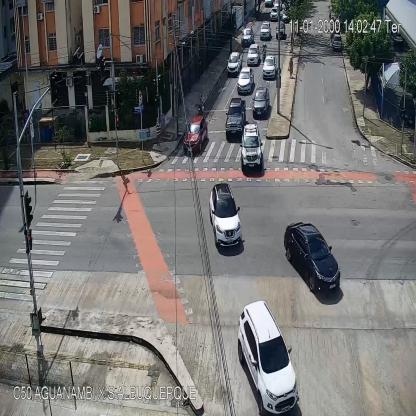car: (238, 300, 298, 412), (283, 221, 340, 295), (210, 182, 244, 248), (241, 124, 263, 170), (183, 117, 208, 151), (226, 98, 245, 135), (252, 89, 270, 120), (237, 67, 253, 94), (262, 56, 277, 80), (227, 52, 242, 73), (247, 45, 260, 66), (241, 27, 253, 45), (260, 23, 270, 42), (275, 22, 285, 38), (332, 35, 342, 50), (270, 8, 278, 19)
motorbike: (196, 94, 204, 117), (262, 42, 267, 62)
person: (156, 116, 161, 147), (288, 57, 295, 79), (161, 109, 166, 136), (234, 20, 237, 38)
